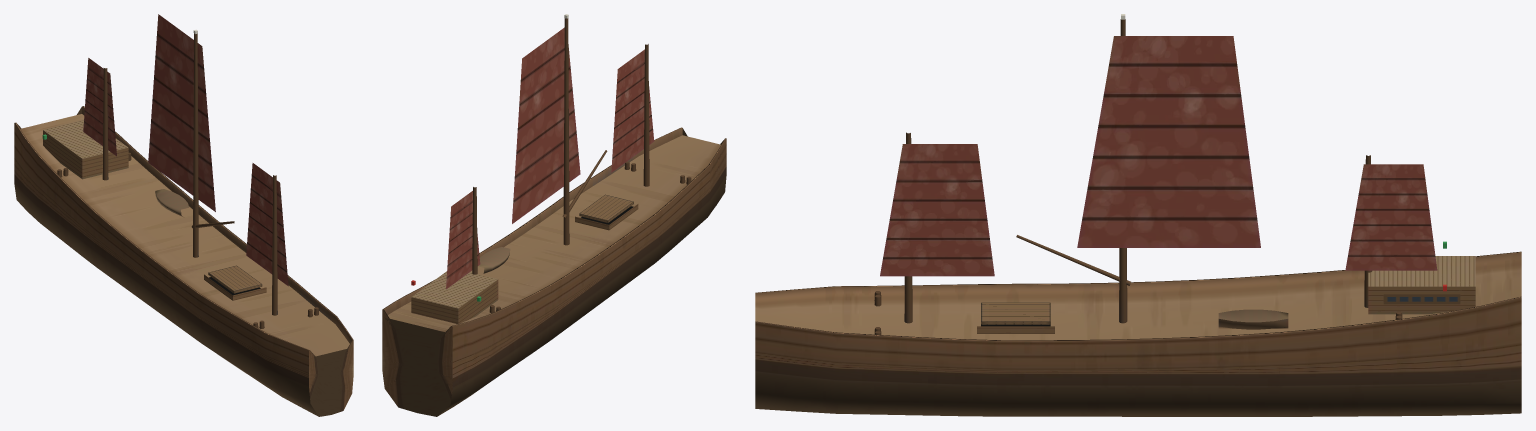
The model's file is cargo.glb.
3 renders of one model, left to right at view 1: azimuth 30°, elevation 25°; view 2: azimuth 150°, elevation 25°; view 3: azimuth 270°, elevation 25°, orthographic. The views are drawn at different scales.
Visible parts, largest first — view 1: hull, hold_hatch_1, boat_left; view 2: hull, hold_hatch_1, boat_left; view 3: hull, hold_hatch_1, boat_left.
Boxes of the visible parts, x1=… form: hull: x1=14, y1=14, x2=353, y2=416; hold_hatch_1: x1=208, y1=265, x2=262, y2=293; boat_left: x1=155, y1=189, x2=189, y2=217; hull: x1=382, y1=14, x2=726, y2=416; hold_hatch_1: x1=579, y1=194, x2=633, y2=222; boat_left: x1=478, y1=247, x2=510, y2=273; hull: x1=755, y1=14, x2=1521, y2=416; hold_hatch_1: x1=981, y1=302, x2=1050, y2=324; boat_left: x1=1218, y1=309, x2=1288, y2=329.
Bounding box in the file's own units: 9.99 × 30.67 × 55.
7 materials, 6 textured.
